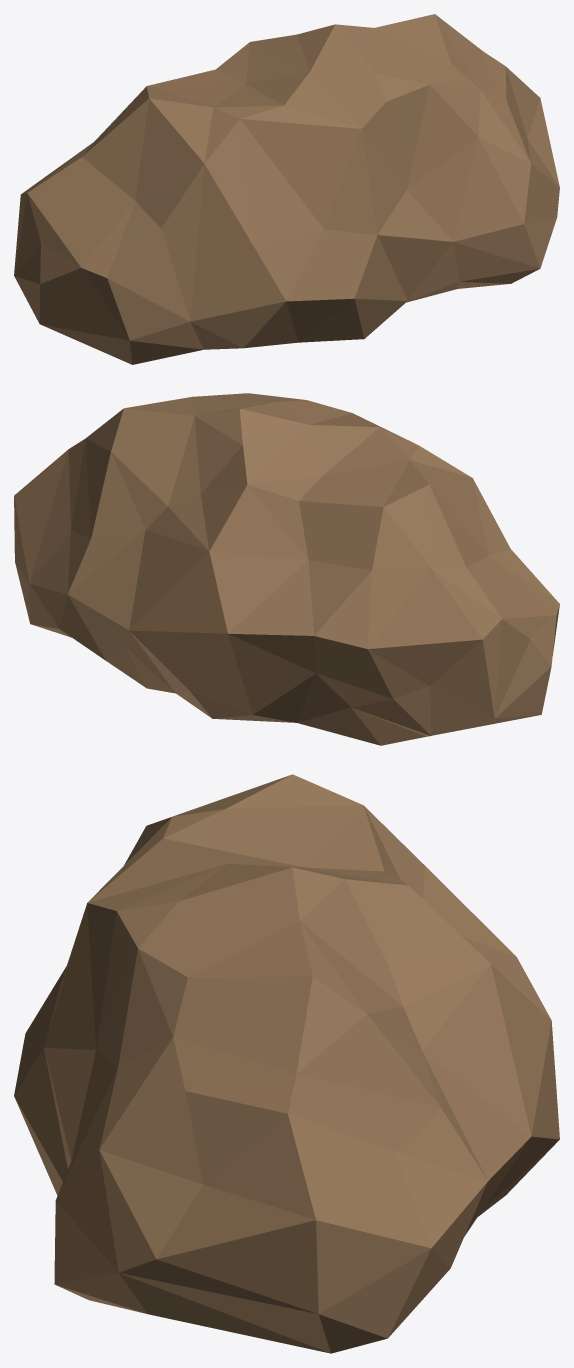
The model's file is Mountain_3_Mesh.fbx.
3 renders of one model, top to bottom at view 1: azimuth 30°, elevation 25°; view 2: azimuth 150°, elevation 25°; view 3: azimuth 270°, elevation 25°, orthographic. The views are drawn at different scales.
Visible parts, largest first — view 1: Mountain_3_Mesh; view 2: Mountain_3_Mesh; view 3: Mountain_3_Mesh.
Boxes of the visible parts, <box> form: Mountain_3_Mesh: <box>14,14,559,364</box>; Mountain_3_Mesh: <box>14,393,559,745</box>; Mountain_3_Mesh: <box>14,774,559,1353</box>.
Bounding box in the file's own units: 7671 × 3992 × 4716.
